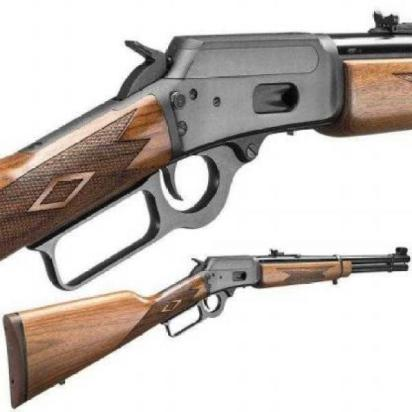Gun: (0, 8, 412, 290), (11, 217, 409, 405)
